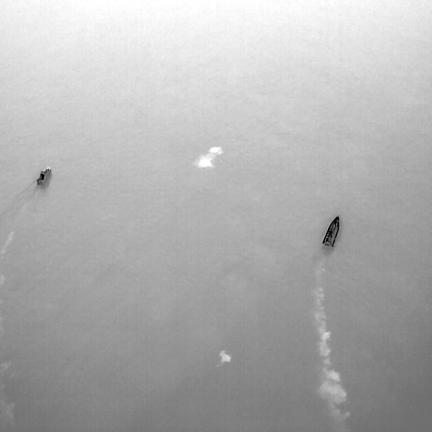flukeprints: (193, 146, 223, 169), (219, 350, 230, 363)
